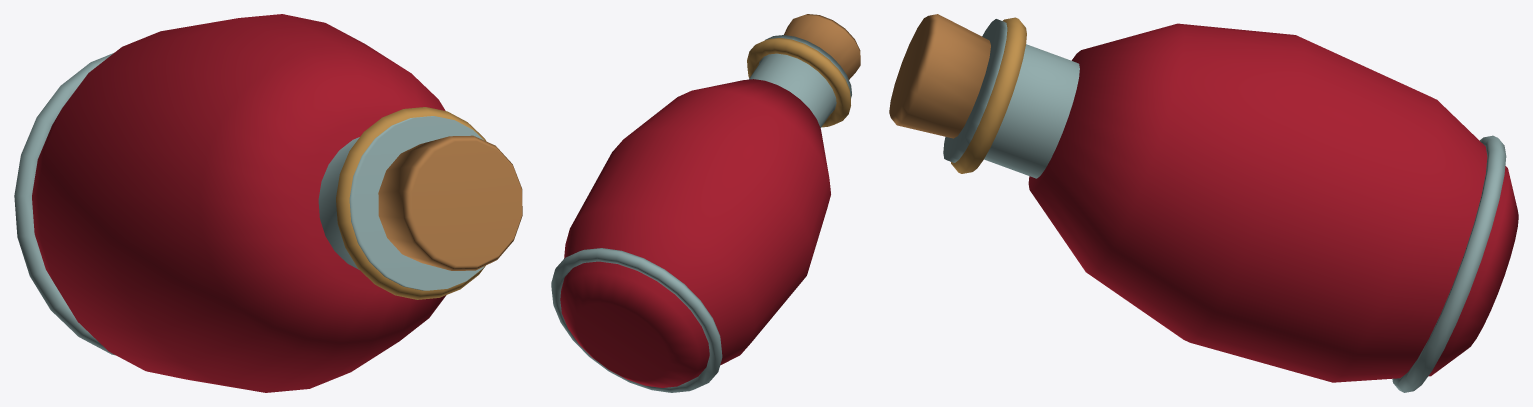
Rendered from health_m.glb.
The picture shows the model from 3 angles, left to right: view 1: azimuth 30°, elevation 25°; view 2: azimuth 150°, elevation 25°; view 3: azimuth 270°, elevation 25°; orthographic projection. The views are drawn at different scales.
Parts seen in each view (by area): view 1: SM_health_m; view 2: SM_health_m; view 3: SM_health_m.
Boxes of the visible parts, x1,y1,x2,y2 form: SM_health_m: (14,14,522,392); SM_health_m: (551,14,860,392); SM_health_m: (889,14,1518,392).
Size of the model in its own units: 0.243 by 0.2944 by 0.4672.
